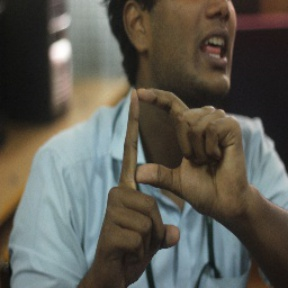D: (104, 78, 214, 226)
